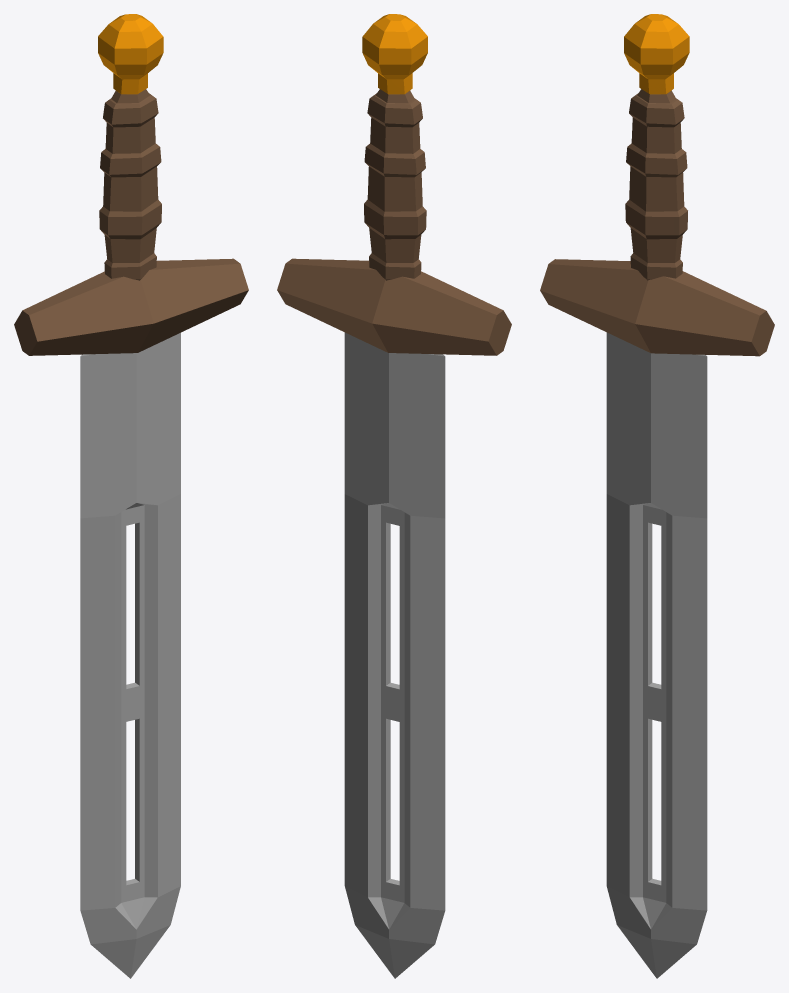
Rendered from PP_Sword.glb.
3 renders of one model, left to right at view 1: azimuth 30°, elevation 25°; view 2: azimuth 150°, elevation 25°; view 3: azimuth 330°, elevation 25°, orthographic.
Visible parts, largest first — view 1: PP_Sword_01; view 2: PP_Sword_01; view 3: PP_Sword_01.
Part boxes in pixels (<box>): PP_Sword_01: <box>14,14,248,978</box>; PP_Sword_01: <box>277,14,511,978</box>; PP_Sword_01: <box>540,14,774,978</box>.
Size of the model in its own units: 0.2039 by 0.8854 by 0.0745.
Materials: 1 (1 with a texture image).
